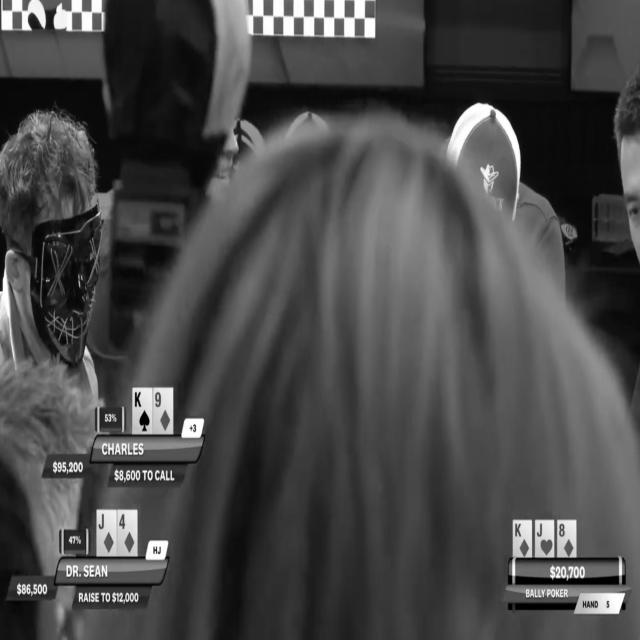4D: (118, 510, 138, 557)
8D: (557, 519, 577, 559)
9D: (153, 385, 174, 437)
JD: (94, 506, 118, 558)
JH: (535, 520, 555, 559)
KD: (513, 518, 533, 560)
KS: (132, 388, 154, 436)
